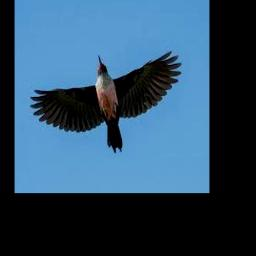Woodpecker: (30, 51, 181, 153)
